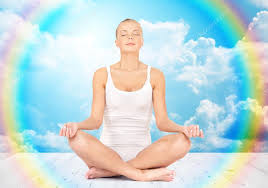hand: (55, 120, 85, 141), (182, 120, 208, 142)
